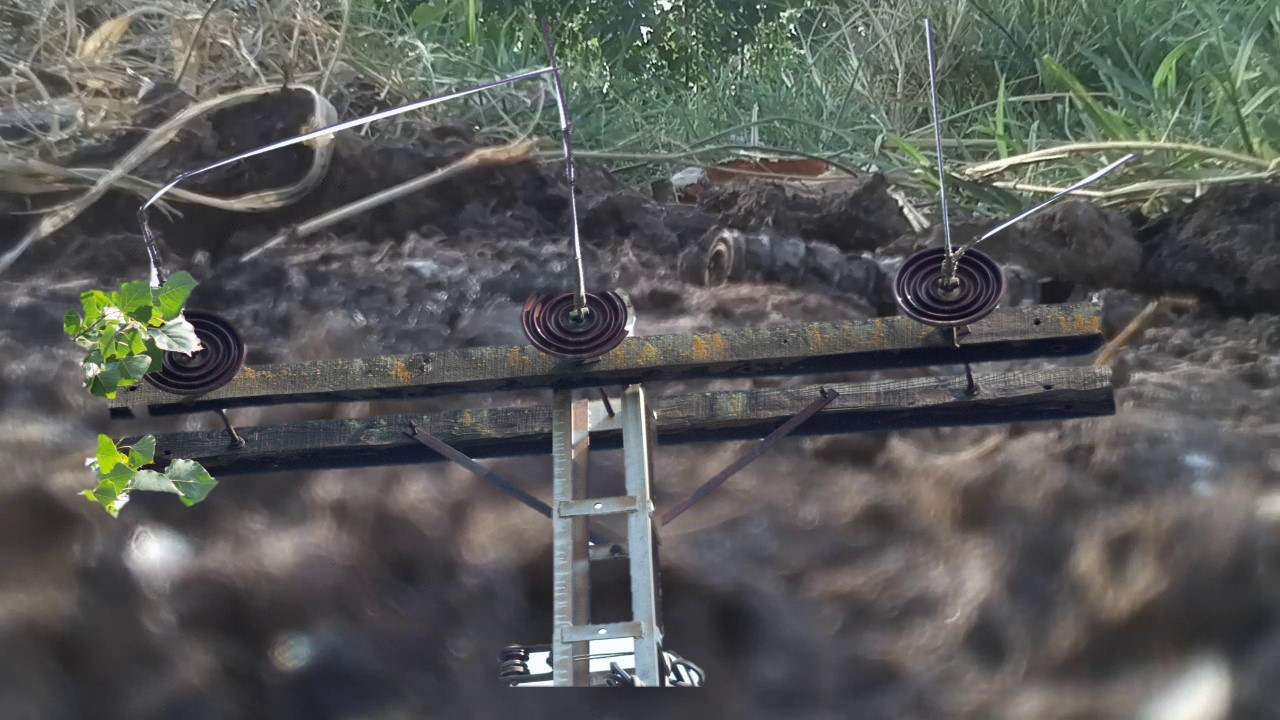defect_disc: (516, 279, 645, 362)
insulator_disc: (892, 247, 1008, 327), (161, 308, 252, 398)
